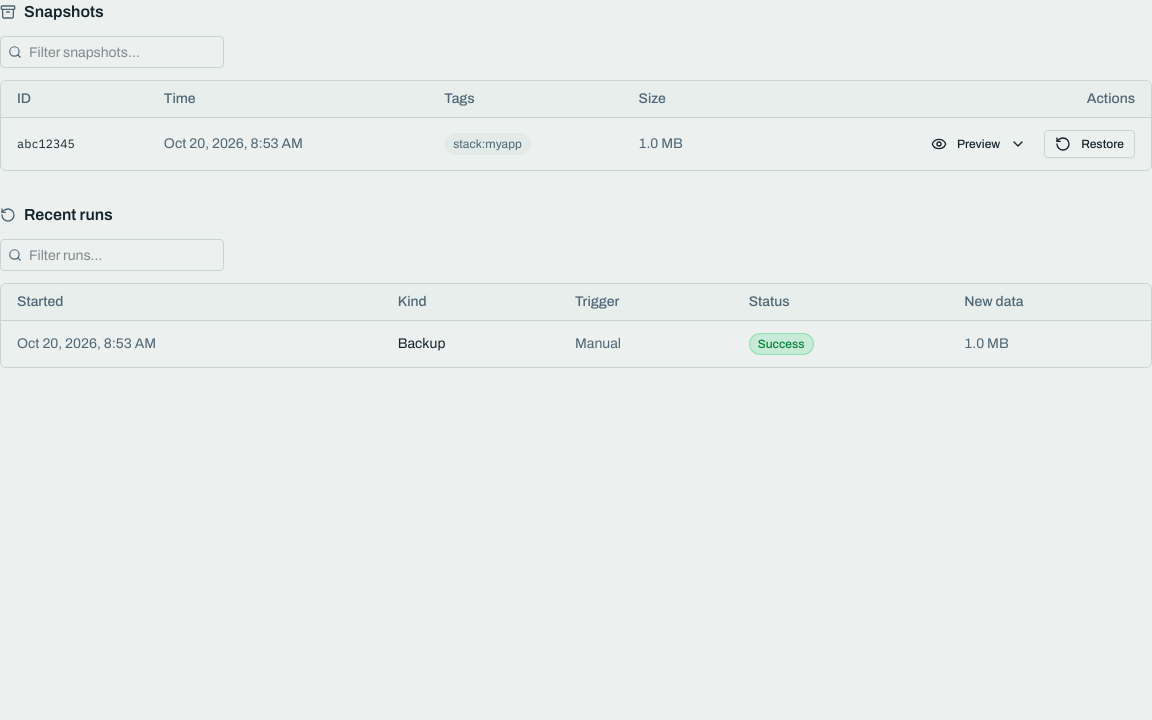
BackupsTab — restore flow › opens the ConfirmDialog when Restore is clicked
Click the button with aria-label "restore snapshot abc12345" at (1090, 144), box [1044, 130, 1135, 158]
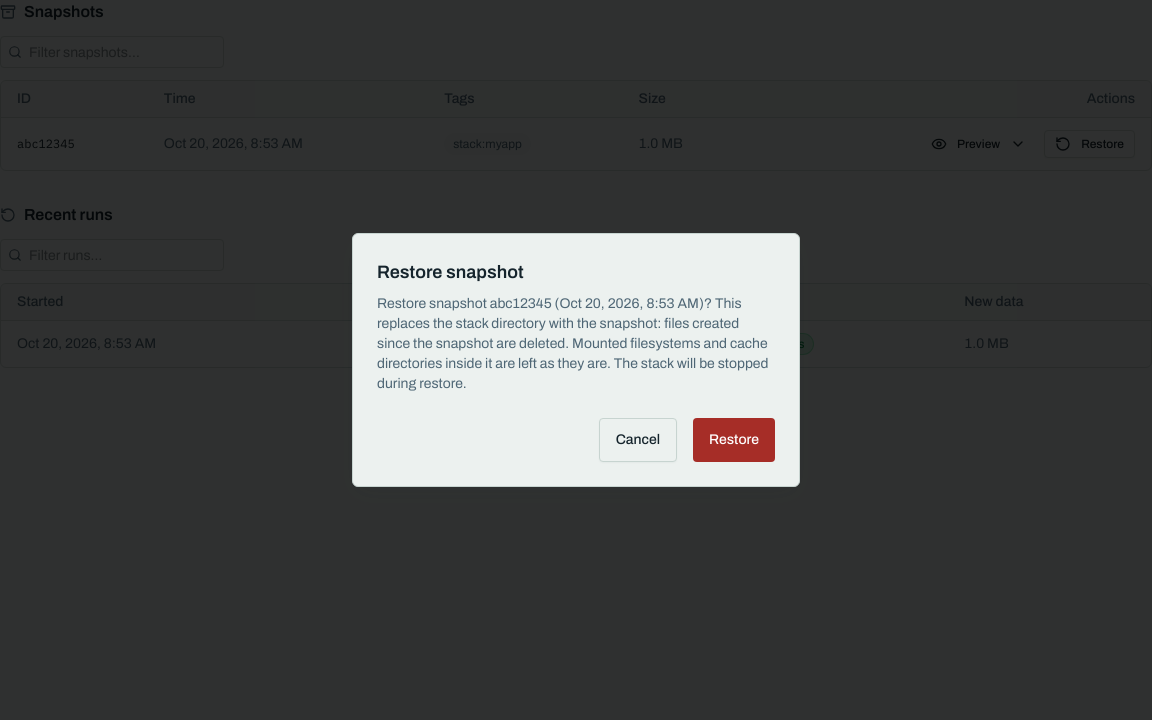
expect the heading "Restore snapshot" is shown: met, box [377, 262, 524, 282]
expect the button "Restore" is shown: met, box [693, 418, 775, 462]
expect the button "Cancel" is shown: met, box [599, 418, 677, 462]
